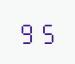five: (37, 20, 54, 44)
nine: (19, 20, 36, 44)
